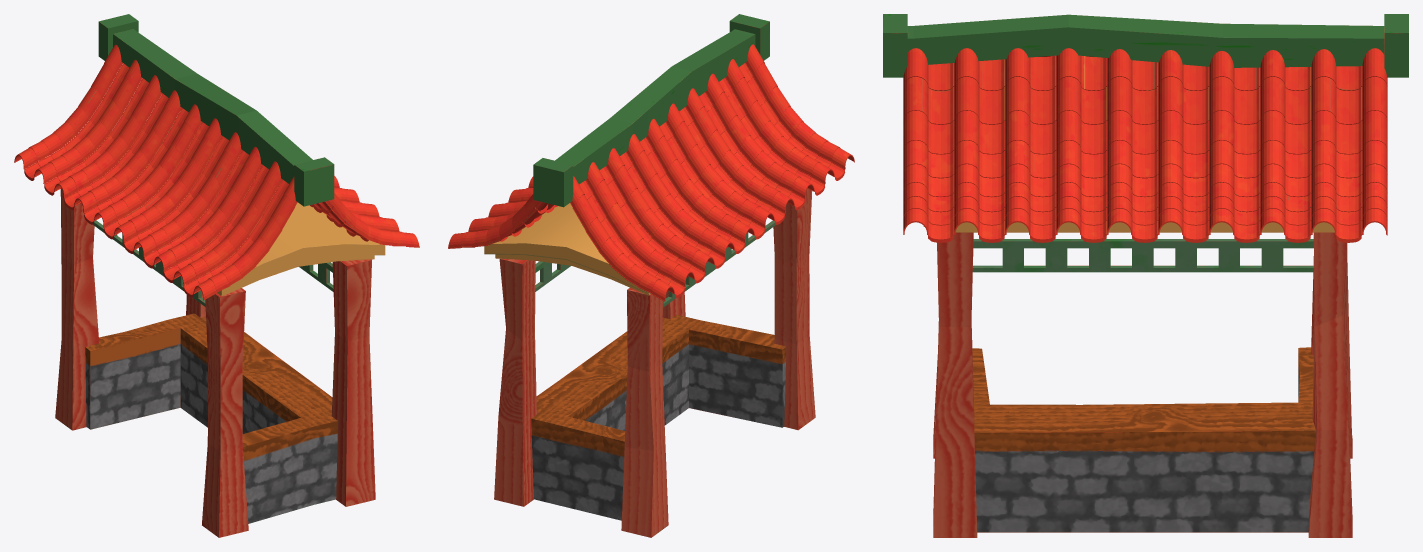
The model's file is booth 1-2.fbx.
3 renders of one model, left to right at view 1: azimuth 30°, elevation 25°; view 2: azimuth 150°, elevation 25°; view 3: azimuth 270°, elevation 25°, orthographic. The views are drawn at different scales.
Parts seen in each view (by area): view 1: Cylinder.001, Cube.004, Cube, Cube.006, Cube.001, Cube.003; view 2: Cylinder.001, Cube.004, Cube, Cube.006, Cube.001, Cube.003, Cube.002; view 3: Cylinder.001, Cube, Cube.004, Cube.006, Cube.002, Cube.001.
Boxes of the visible parts, left/top/right/bottom form: Cylinder.001: left=14, top=44, right=419, bottom=300; Cube.004: left=55, top=188, right=375, bottom=537; Cube: left=85, top=313, right=337, bottom=523; Cube.006: left=98, top=14, right=334, bottom=206; Cube.001: left=62, top=123, right=385, bottom=295; Cube.003: left=93, top=220, right=205, bottom=306; Cylinder.001: left=448, top=44, right=854, bottom=301; Cube.004: left=494, top=188, right=815, bottom=537; Cube: left=531, top=314, right=786, bottom=520; Cube.006: left=533, top=14, right=769, bottom=207; Cube.001: left=484, top=203, right=650, bottom=295; Cube.003: left=663, top=220, right=775, bottom=307; Cube.002: left=535, top=261, right=570, bottom=291; Cylinder.001: left=903, top=48, right=1387, bottom=242; Cube: left=972, top=347, right=1315, bottom=532; Cube.004: left=933, top=232, right=1352, bottom=537; Cube.006: left=883, top=14, right=1408, bottom=77; Cube.002: left=972, top=239, right=1313, bottom=272; Cube.001: left=923, top=222, right=1334, bottom=232.
Size of the model in its own units: 971 by 1568 by 1592.
Materials: 1 (1 with a texture image).
